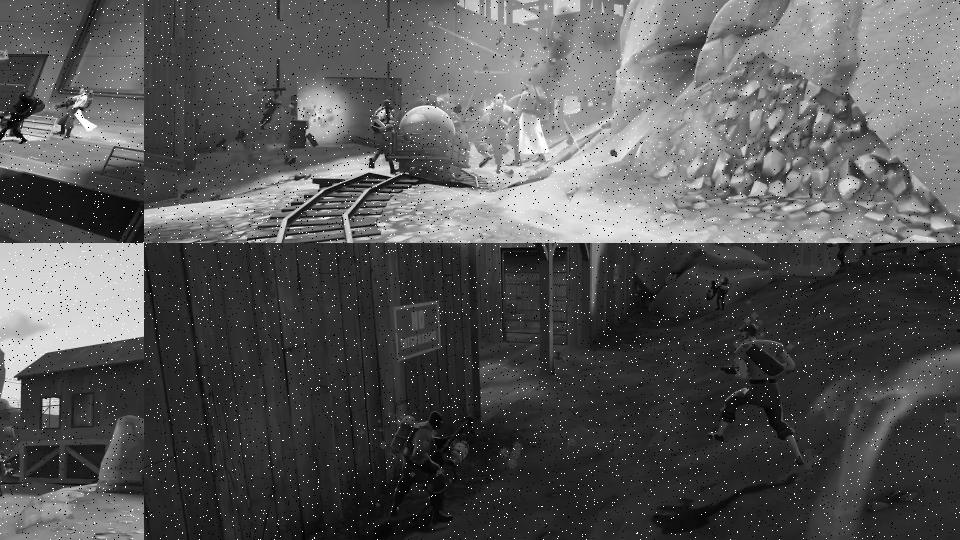Enemy: (714, 327, 804, 443), (393, 410, 465, 515), (50, 85, 100, 146), (476, 93, 516, 168), (0, 87, 46, 147), (370, 99, 399, 174), (519, 86, 546, 164), (0, 450, 13, 513), (706, 281, 732, 310), (260, 94, 281, 129), (830, 243, 853, 264)
